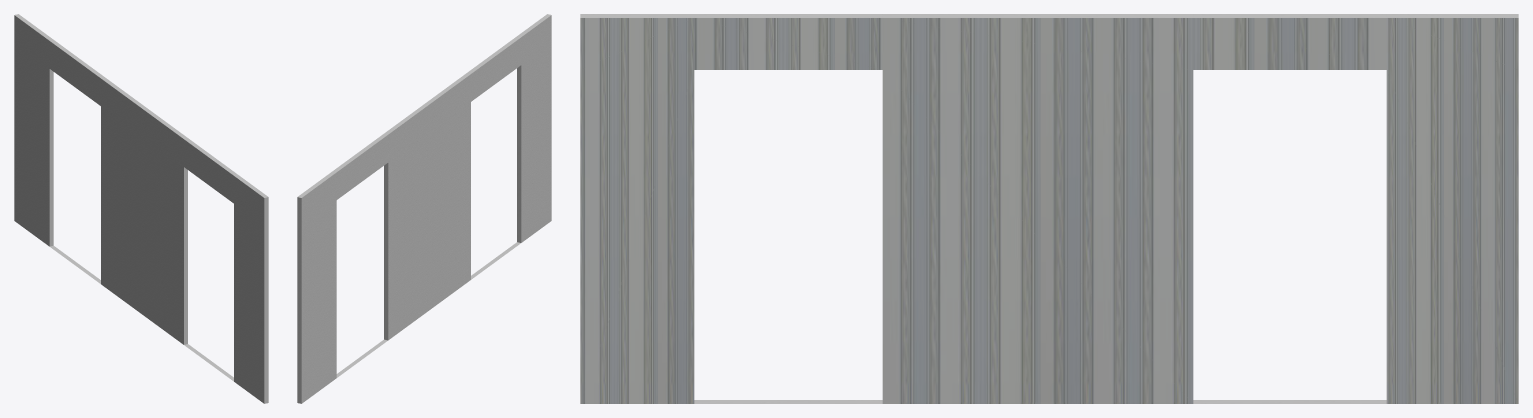
File: Kitchen WallDivider.fbx
3 views of the same model, side by side, from view 1: azimuth 30°, elevation 25°; view 2: azimuth 150°, elevation 25°; view 3: azimuth 270°, elevation 25° (orthographic). The views are drawn at different scales.
Parts seen in each view (by area): view 1: pCube14; view 2: pCube14; view 3: pCube14.
Boxes of the visible parts, left/top/right/bottom form: pCube14: left=14, top=14, right=268, bottom=403; pCube14: left=297, top=14, right=551, bottom=403; pCube14: left=580, top=14, right=1518, bottom=403.
Size of the model in its own units: 0.0755 by 3.5 by 7.7.
Materials: 2 (2 with a texture image).
